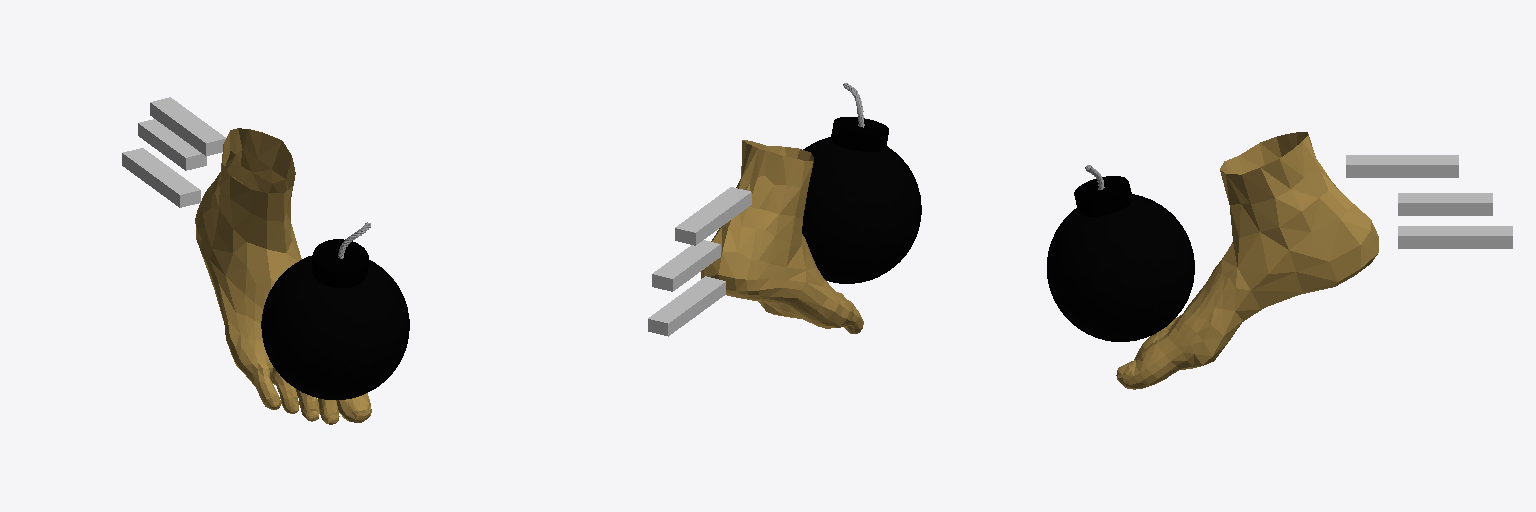
File: foot.obj
3 renders of one model, left to right at view 1: azimuth 30°, elevation 25°; view 2: azimuth 150°, elevation 25°; view 3: azimuth 270°, elevation 25°, orthographic.
Visible parts, largest first — view 1: foot, Sphere, Cylinder_Mesh.002, Cube.002_Cube.003, Cube_Cube.001, Cube.001_Cube.002; view 2: foot, Sphere, Cube.002_Cube.003, Cube_Cube.001, Cube.001_Cube.002, Cylinder_Mesh.002; view 3: foot, Sphere, Cube.002_Cube.003, Cube_Cube.001, Cube.001_Cube.002, Cylinder_Mesh.002.
Part boxes in pixels (left/top/right/bottom): foot: left=195, top=128, right=371, bottom=424; Sphere: left=261, top=255, right=409, bottom=399; Cylinder_Mesh.002: left=312, top=239, right=368, bottom=287; Cube.002_Cube.003: left=122, top=148, right=200, bottom=207; Cube_Cube.001: left=150, top=97, right=225, bottom=155; Cube.001_Cube.002: left=138, top=119, right=206, bottom=170; foot: left=701, top=140, right=863, bottom=333; Sphere: left=802, top=137, right=921, bottom=283; Cube.002_Cube.003: left=648, top=276, right=725, bottom=336; Cube_Cube.001: left=675, top=187, right=751, bottom=245; Cube.001_Cube.002: left=652, top=240, right=720, bottom=291; Cylinder_Mesh.002: left=831, top=117, right=888, bottom=151; foot: left=1116, top=132, right=1378, bottom=389; Sphere: left=1047, top=194, right=1194, bottom=341; Cube.002_Cube.003: left=1398, top=226, right=1512, bottom=248; Cube_Cube.001: left=1346, top=155, right=1458, bottom=177; Cube.001_Cube.002: left=1398, top=193, right=1492, bottom=215; Cylinder_Mesh.002: left=1074, top=176, right=1132, bottom=216.
Bounding box in the file's own units: 2.15 × 3.79 × 6.76.